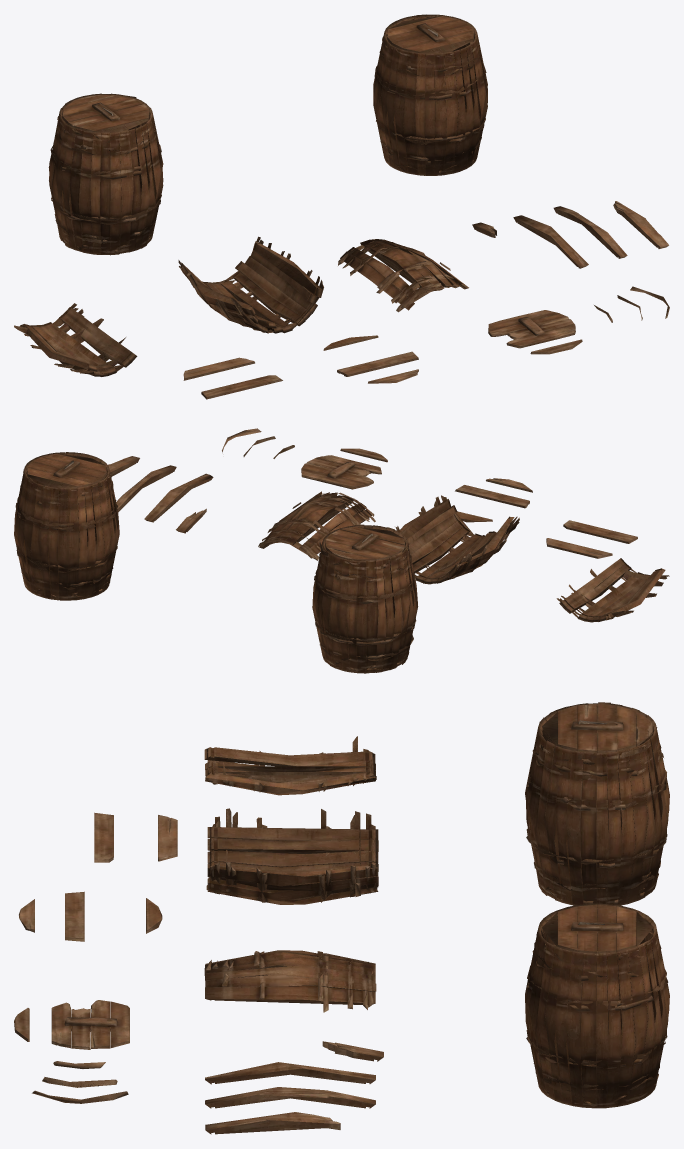
File: wooden_barrels_01.lite.glb
3 views of the same model, one above another, from view 1: azimuth 30°, elevation 25°; view 2: azimuth 150°, elevation 25°; view 3: azimuth 270°, elevation 25° (orthographic). The views are drawn at different scales.
Visible parts, largest first — view 1: wooden_barrels_01_piece01, wooden_barrels_01_barrel01, wooden_barrels_01_barrel02; view 2: wooden_barrels_01_piece01, wooden_barrels_01_barrel02, wooden_barrels_01_barrel01; view 3: wooden_barrels_01_piece01, wooden_barrels_01_barrel01, wooden_barrels_01_barrel02.
Part boxes in pixels (x1=…): wooden_barrels_01_piece01: x1=14, y1=201, x2=669, y2=399; wooden_barrels_01_barrel01: x1=373, y1=14, x2=487, y2=175; wooden_barrels_01_barrel02: x1=48, y1=93, x2=163, y2=255; wooden_barrels_01_piece01: x1=108, y1=428, x2=669, y2=622; wooden_barrels_01_barrel02: x1=312, y1=524, x2=418, y2=673; wooden_barrels_01_barrel01: x1=14, y1=452, x2=119, y2=600; wooden_barrels_01_piece01: x1=14, y1=736, x2=383, y2=1134; wooden_barrels_01_barrel01: x1=525, y1=903, x2=669, y2=1108; wooden_barrels_01_barrel02: x1=525, y1=702, x2=669, y2=905.
Size of the model in its own units: 4.44 by 0.9498 by 3.34.
3 materials, 3 textured.
